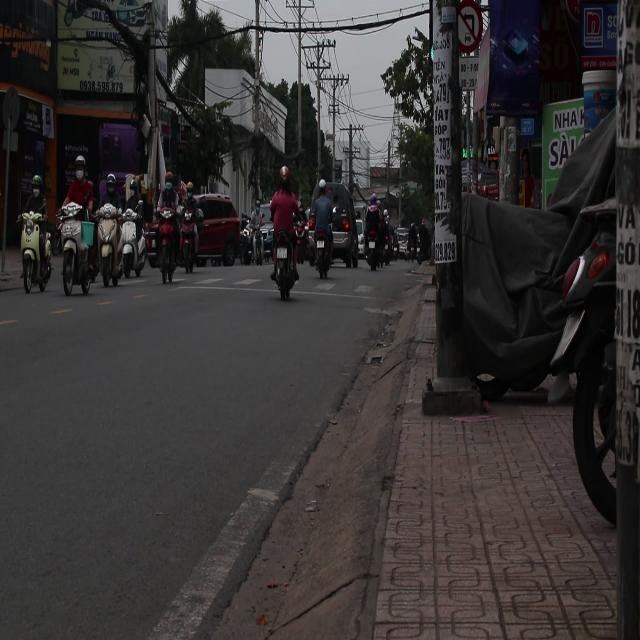car: (190, 196, 243, 268)
motorbike: (53, 206, 96, 298), (18, 210, 56, 296), (147, 212, 182, 285), (95, 207, 125, 290), (117, 214, 149, 282), (270, 233, 302, 295), (364, 211, 394, 271), (313, 220, 337, 290), (248, 210, 273, 264), (180, 218, 200, 276)
